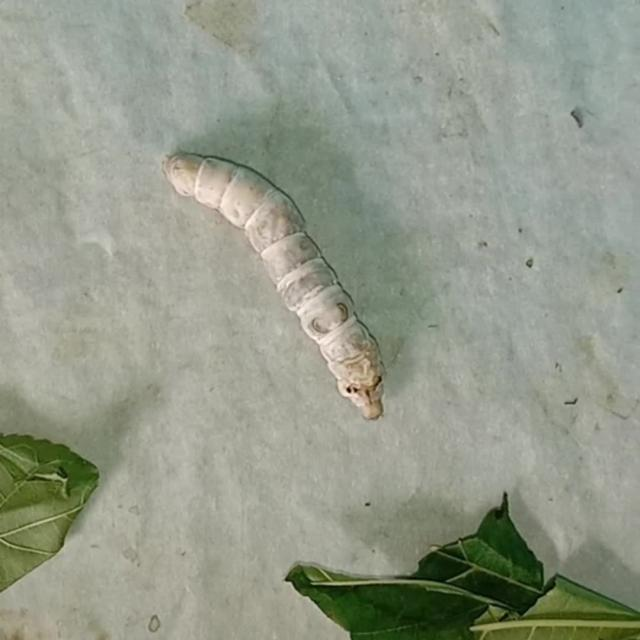Grasserie: (157, 133, 391, 425)
